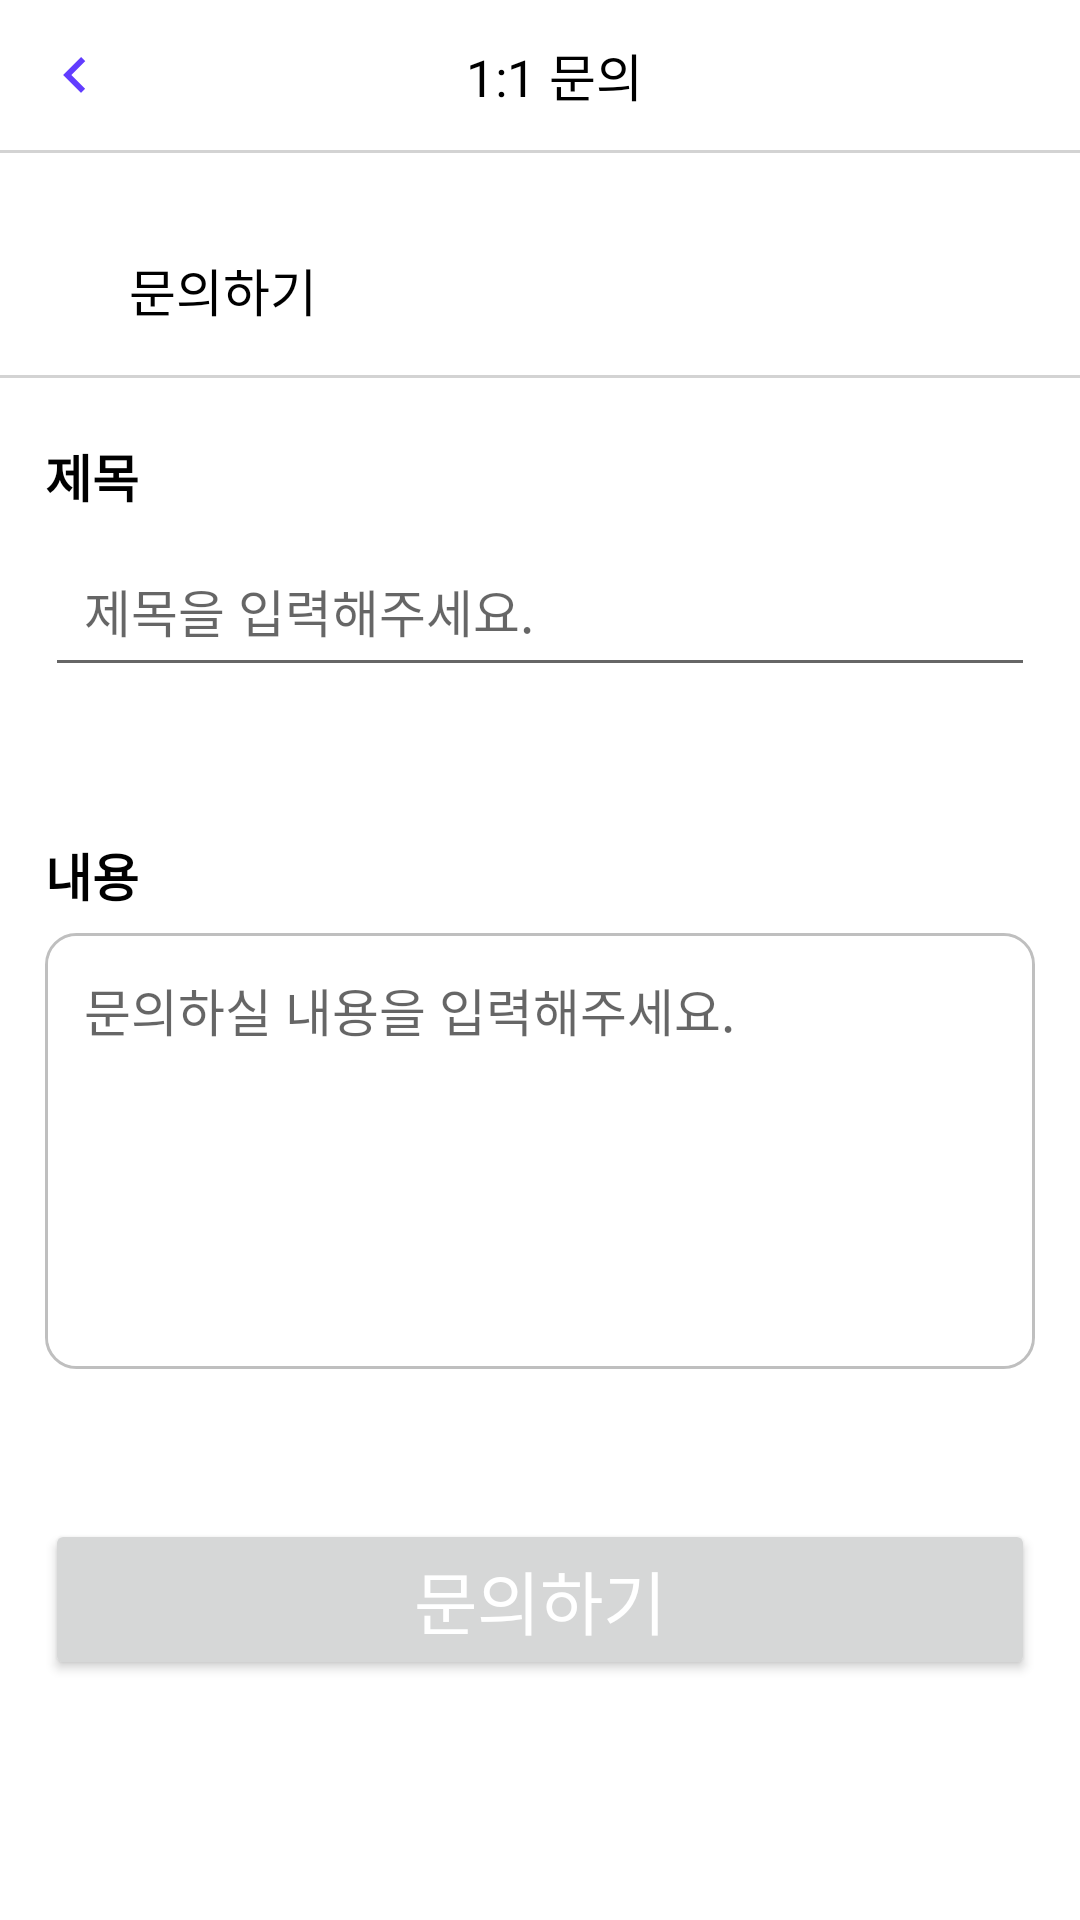

Point at icon controls on the screen. Image size 1080 x 1920, points as [x,y].
back: [74,75]
